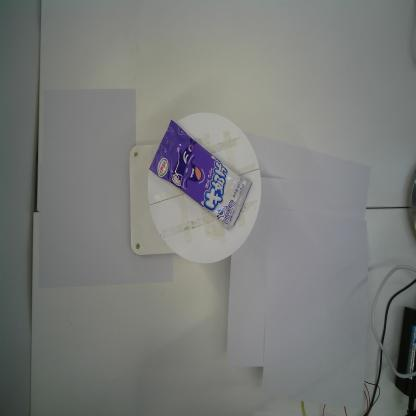Candy: (149, 119, 253, 230)
